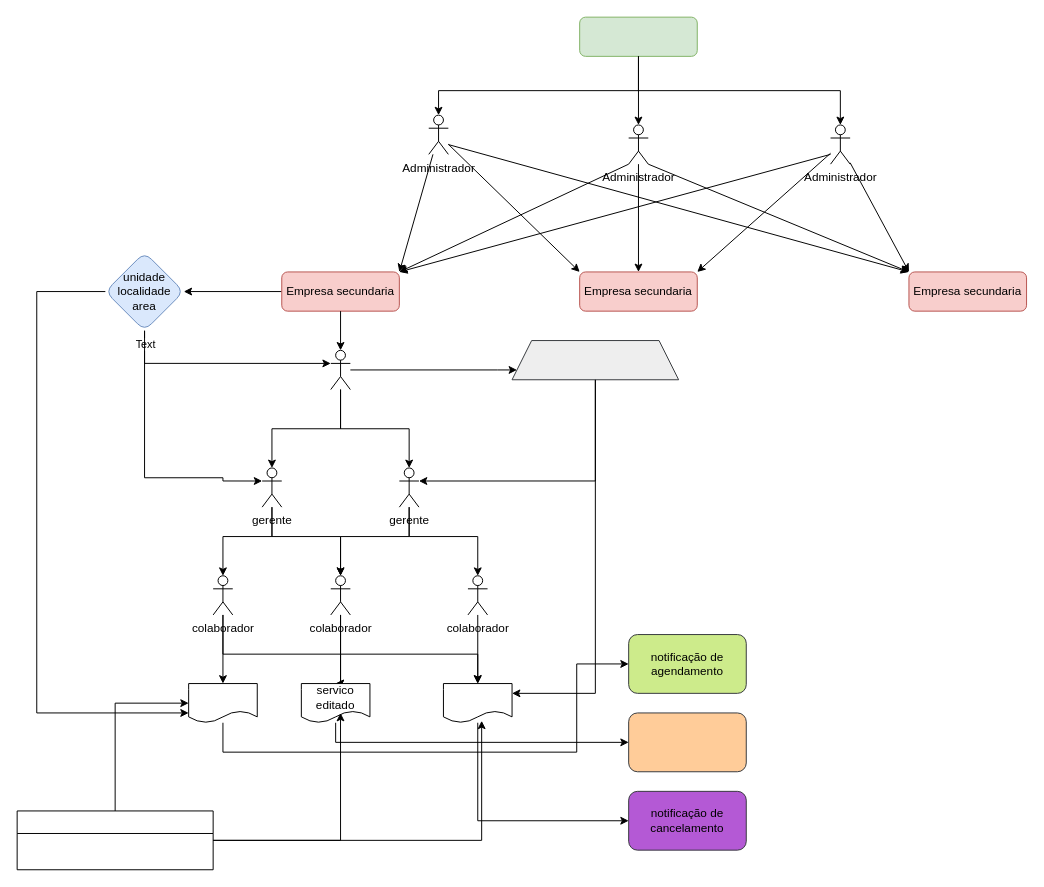
The diagram is 1044 pixels wide and 887 high, and some of its shapes have lost their labels. Here are the shapes that lost their labels. From the top down, the box of each, then its label:
(579, 16, 697, 56): Empresa primaria
(330, 349, 350, 390): gestor
(511, 340, 679, 380): Regras de negoio
(188, 683, 257, 723): agendado
(442, 683, 512, 723): servico cancelado
(628, 712, 746, 772): notificação de altereação
(16, 810, 213, 870): base de dados
